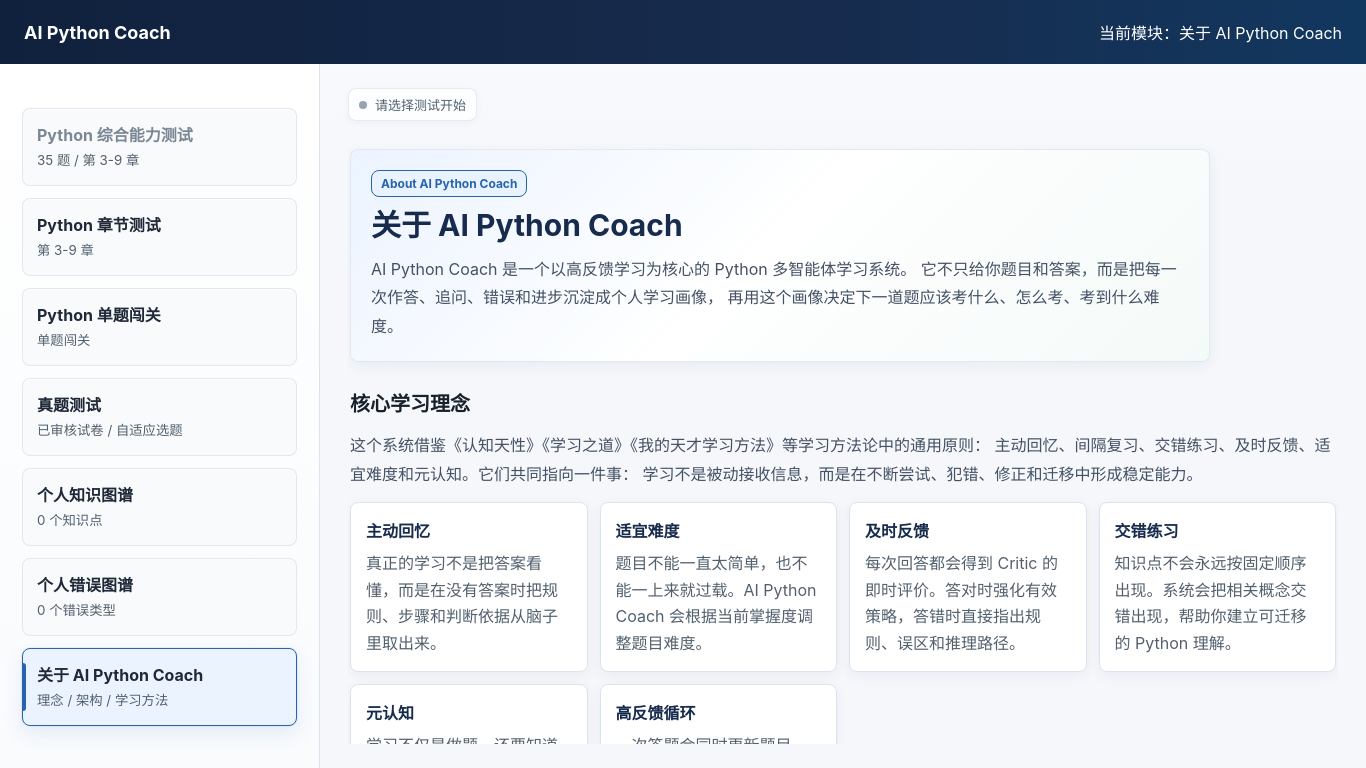
Test: LearningPage integration › starts a single-question challenge and keeps the topbar on the chapter title
Click the button "Python 单题闯关 单题闯关": (160, 327) x1=22 y1=288 x2=297 y2=366
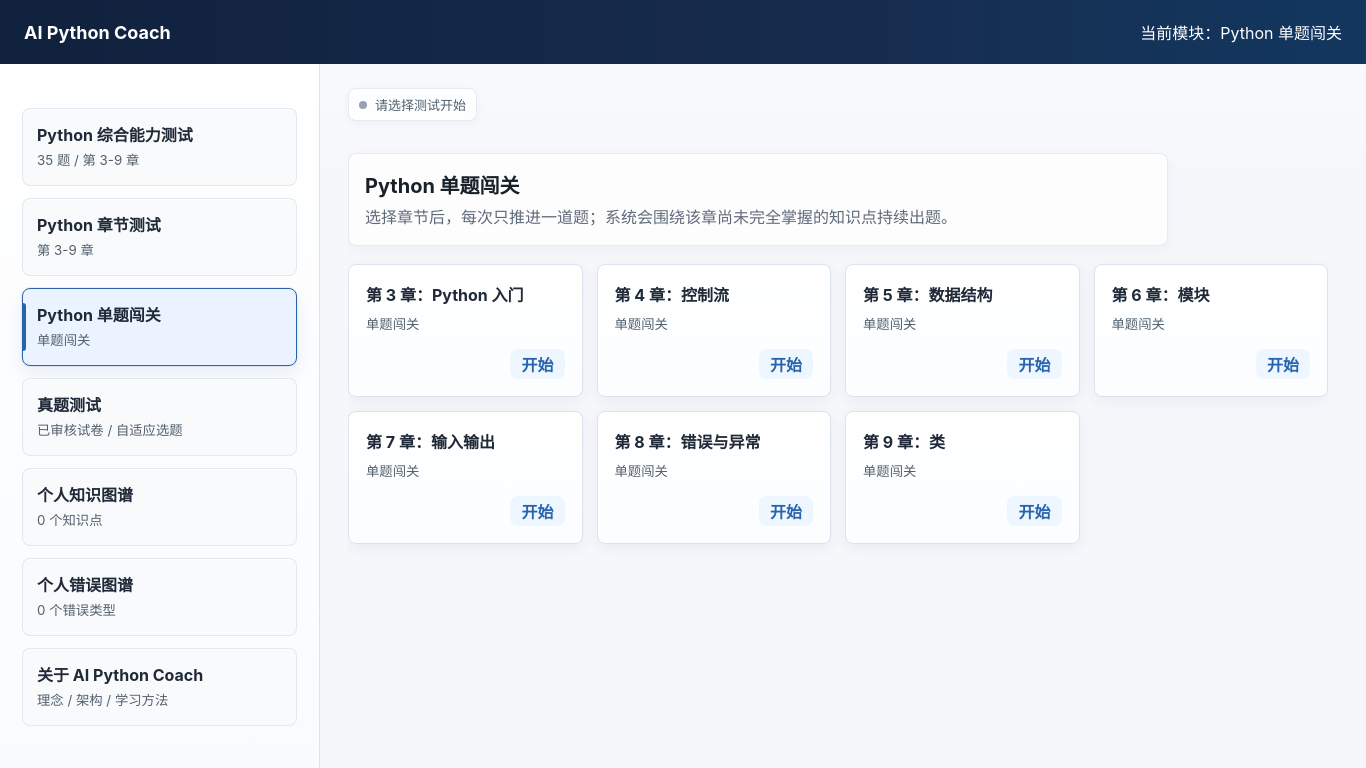
Click the button with aria-label "开始 第 5 章：数据结构单题闯关": (1034, 364) x1=1008 y1=349 x2=1062 y2=379
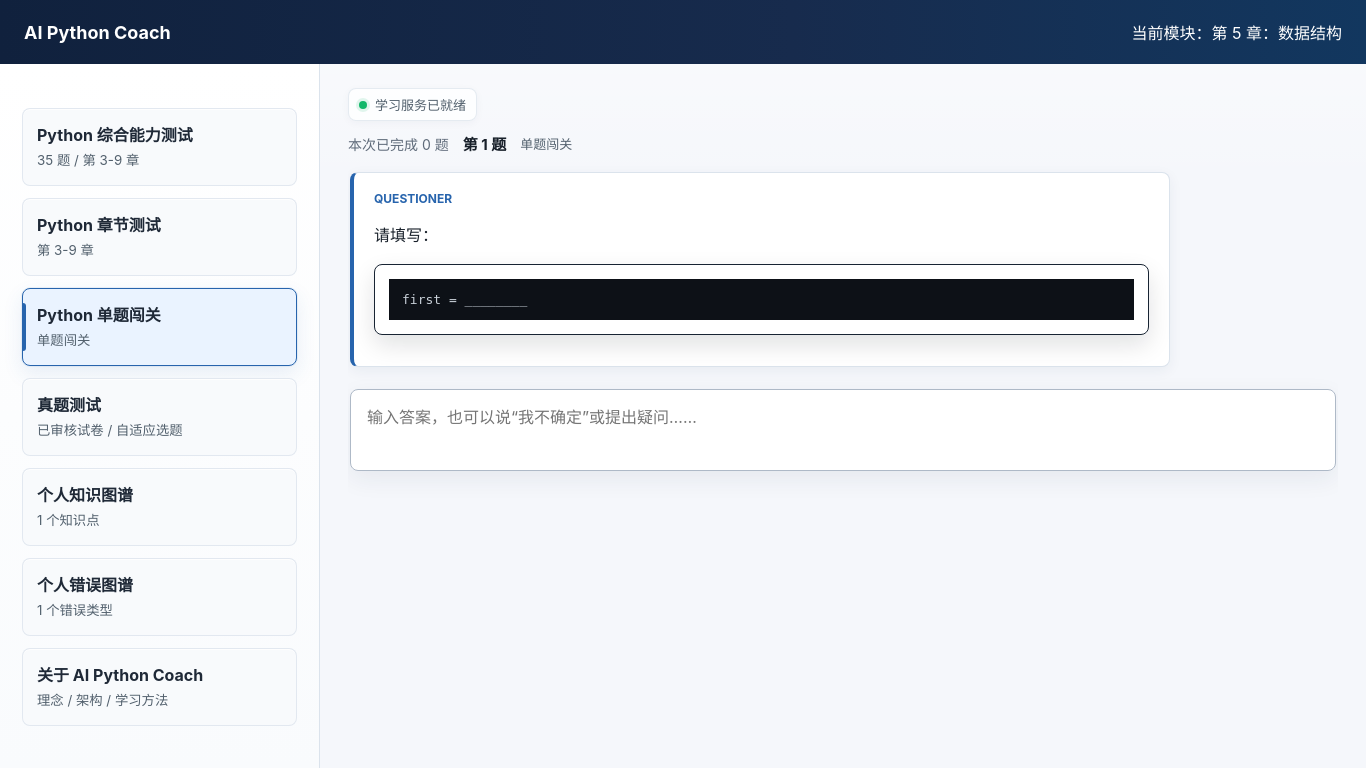
Result: the text "当前模块：第 5 章：数据结构" is shown at x1=1132 y1=20 x2=1342 y2=44
Result: the text "第 1 题" is shown at x1=463 y1=133 x2=506 y2=154
